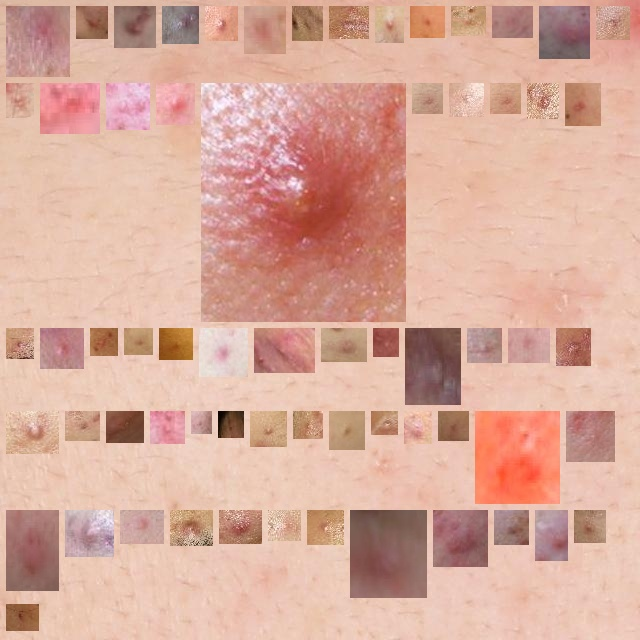papule: (209, 91, 398, 314), (483, 417, 552, 496), (358, 518, 419, 590), (14, 14, 62, 69), (413, 336, 453, 397), (14, 518, 51, 583), (441, 518, 480, 559), (48, 91, 92, 126), (262, 336, 307, 365), (547, 14, 582, 51), (574, 419, 607, 454), (207, 336, 240, 369), (73, 518, 106, 549), (14, 419, 51, 446), (114, 91, 142, 122), (252, 14, 278, 46), (543, 518, 566, 553), (48, 336, 76, 361), (122, 14, 148, 40), (164, 91, 187, 117), (573, 91, 593, 118), (329, 336, 359, 354), (178, 518, 205, 538), (128, 518, 156, 536), (516, 336, 542, 355), (227, 518, 254, 536), (170, 14, 191, 36), (337, 419, 357, 442), (258, 419, 279, 439), (564, 336, 583, 358), (337, 14, 361, 31), (500, 14, 525, 30), (315, 518, 336, 537), (475, 336, 494, 355), (502, 518, 521, 537), (114, 419, 136, 435), (457, 91, 476, 109), (604, 14, 622, 32), (213, 14, 230, 33), (158, 419, 177, 436), (535, 91, 551, 111), (418, 14, 437, 30), (167, 336, 185, 352), (300, 14, 315, 33), (383, 14, 396, 35), (84, 14, 100, 31), (582, 518, 598, 535), (459, 14, 478, 28), (73, 419, 92, 433), (276, 518, 293, 533), (14, 91, 26, 110), (420, 91, 435, 106), (498, 91, 513, 106), (446, 419, 461, 433), (412, 419, 424, 436), (14, 612, 31, 623), (14, 336, 26, 351), (301, 419, 315, 431), (98, 336, 110, 348), (132, 336, 145, 347), (381, 336, 391, 349), (226, 419, 236, 430), (379, 419, 390, 427), (199, 419, 204, 426)
